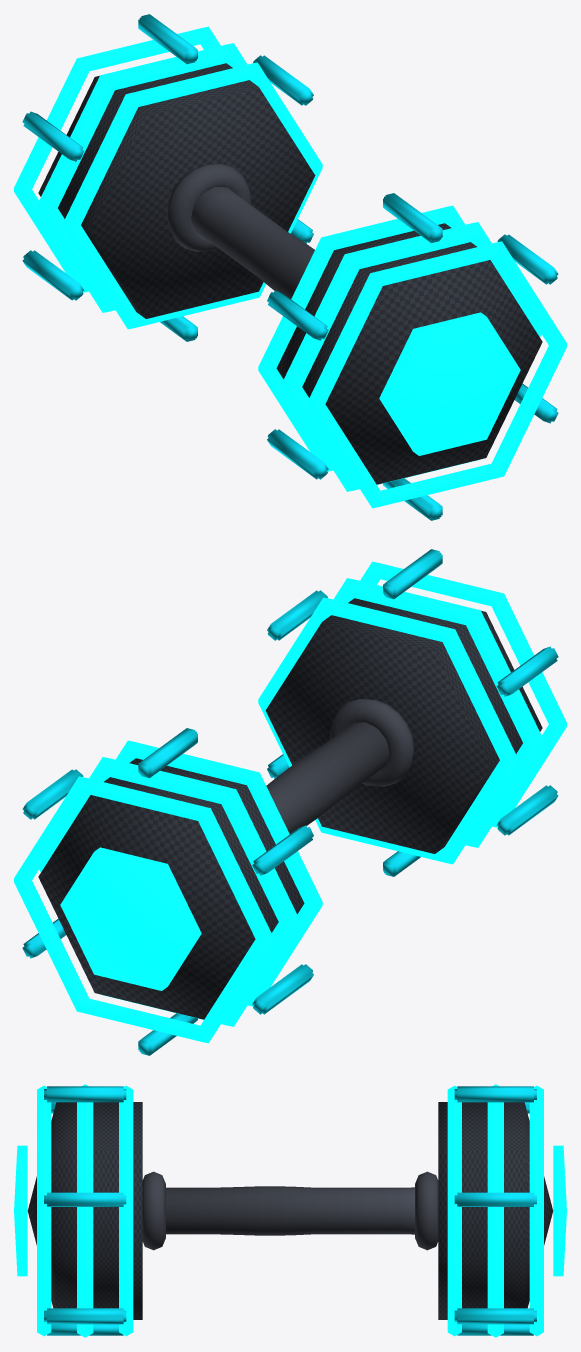
File: CyberDumbbell.glb
3 views of the same model, one above another, from view 1: azimuth 30°, elevation 25°; view 2: azimuth 150°, elevation 25°; view 3: azimuth 270°, elevation 25° (orthographic). The views are drawn at different scales.
Visible parts, largest first — view 1: CyberDumbbell, CyberDumbbell_Glow; view 2: CyberDumbbell, CyberDumbbell_Glow; view 3: CyberDumbbell, CyberDumbbell_Glow.
Part boxes in pixels (left/top/right/bottom): CyberDumbbell: left=22, top=14, right=558, bottom=520; CyberDumbbell_Glow: left=14, top=26, right=566, bottom=508; CyberDumbbell: left=22, top=549, right=558, bottom=1055; CyberDumbbell_Glow: left=14, top=561, right=566, bottom=1043; CyberDumbbell: left=27, top=1086, right=553, bottom=1335; CyberDumbbell_Glow: left=14, top=1084, right=566, bottom=1337.
Size of the model in its own units: 0.93 by 0.99 by 2.02.
2 materials, 1 textured.
